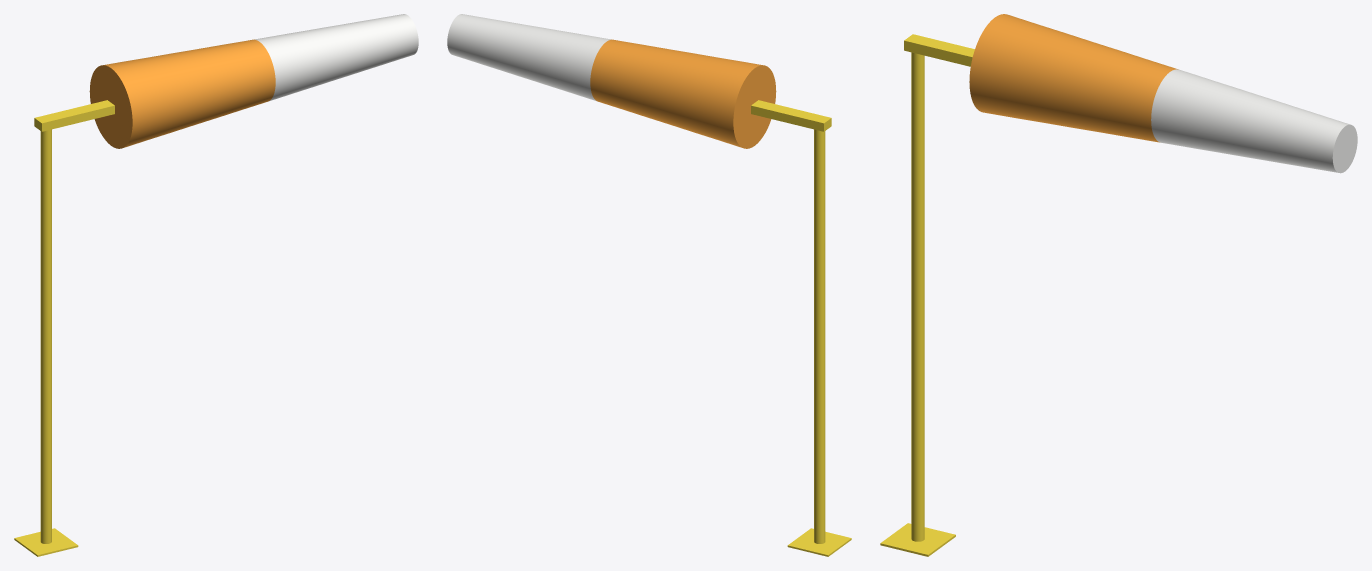
The model's file is windsock.glb.
The picture shows the model from 3 angles, left to right: view 1: azimuth 30°, elevation 25°; view 2: azimuth 150°, elevation 25°; view 3: azimuth 330°, elevation 25°; orthographic projection. The views are drawn at different scales.
Visible parts, largest first — view 1: sock_orange, sock_white, pole, swivel_arm, base_plate; view 2: sock_orange, sock_white, pole, swivel_arm, base_plate; view 3: sock_orange, sock_white, pole, base_plate, swivel_arm.
Part boxes in pixels (x1=…): sock_orange: x1=89, y1=39, x2=275, y2=148; sock_white: x1=254, y1=14, x2=418, y2=101; pole: x1=40, y1=129, x2=51, y2=543; swivel_arm: x1=34, y1=100, x2=114, y2=131; base_plate: x1=14, y1=528, x2=78, y2=556; sock_orange: x1=590, y1=39, x2=776, y2=148; sock_white: x1=447, y1=14, x2=611, y2=101; pole: x1=814, y1=129, x2=825, y2=543; swivel_arm: x1=751, y1=100, x2=831, y2=131; base_plate: x1=787, y1=528, x2=851, y2=556; sock_orange: x1=969, y1=14, x2=1178, y2=142; sock_white: x1=1151, y1=69, x2=1357, y2=173; pole: x1=911, y1=52, x2=924, y2=541; base_plate: x1=880, y1=523, x2=955, y2=556; swivel_arm: x1=904, y1=34, x2=974, y2=66.
Size of the model in its own units: 4.71 by 5.41 by 0.914.
